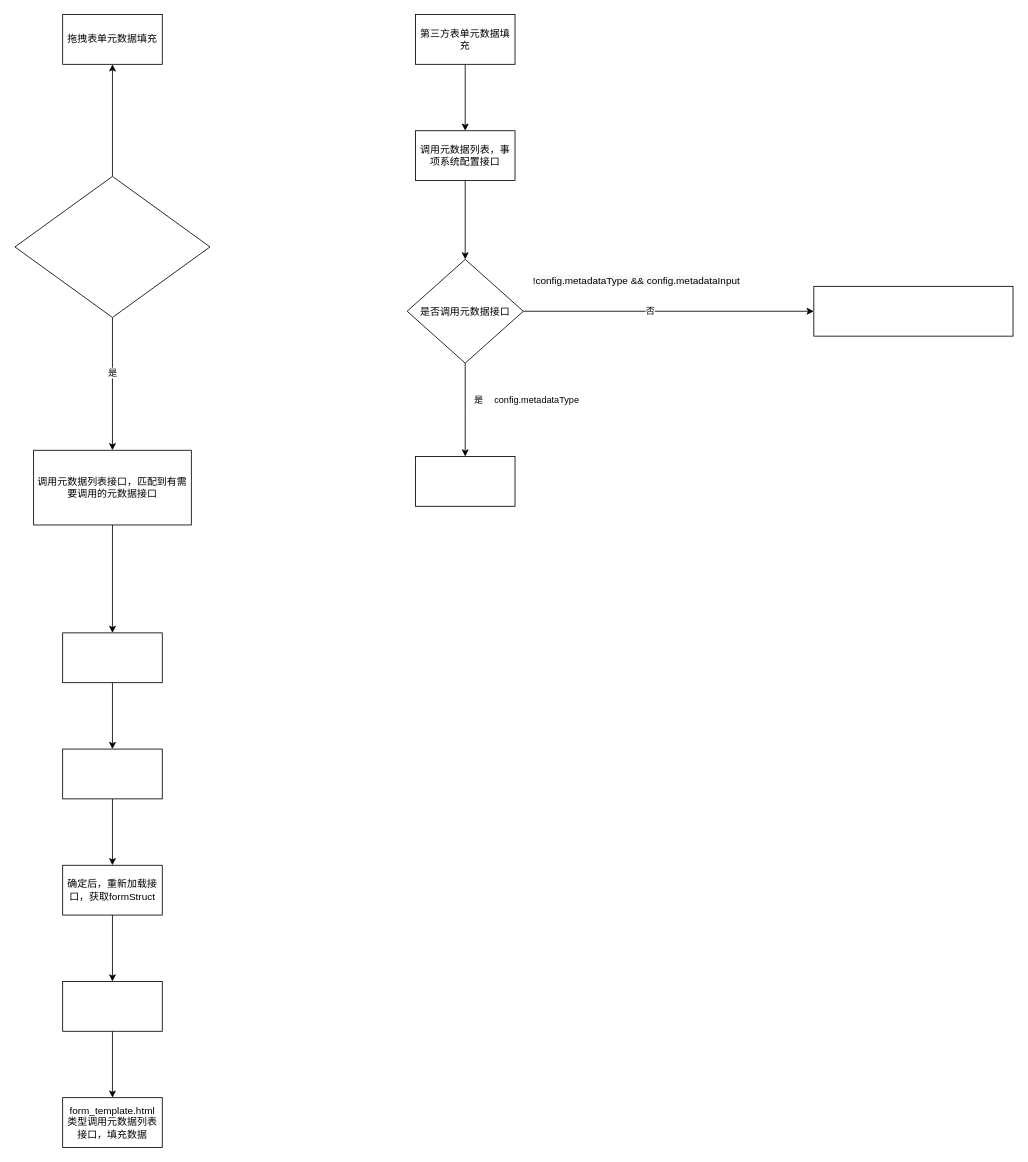
Image size: 1028x1162. Some labels were removed from this diagram. The centre of each missing label's shape, as x and y in pixels:
"formStruct 是否配置元数据 defaultMetaData metaTypeData" goes at [112,246].
"显示元数据弹窗" goes at [112,657].
"输入元数据参数" goes at [112,773].
"通过postMessage api 发送 get_meta_data 类型数据" goes at [112,1006].
